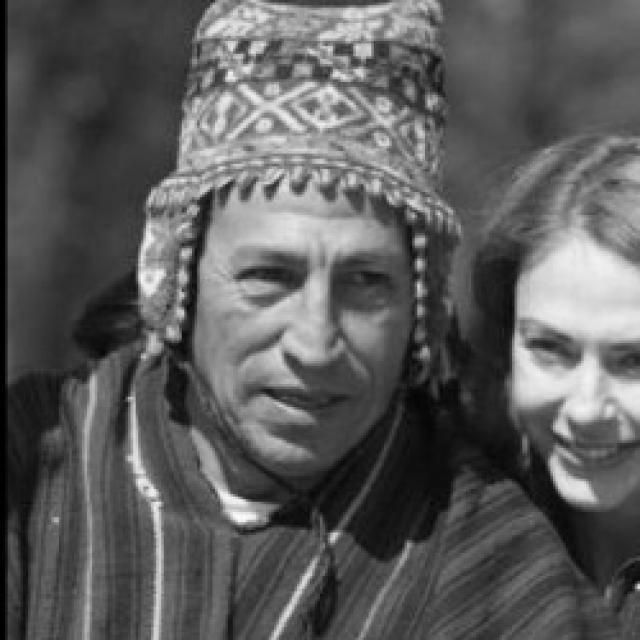real: (197, 111, 417, 474), (513, 207, 640, 515), (230, 249, 394, 308), (523, 325, 640, 385)
